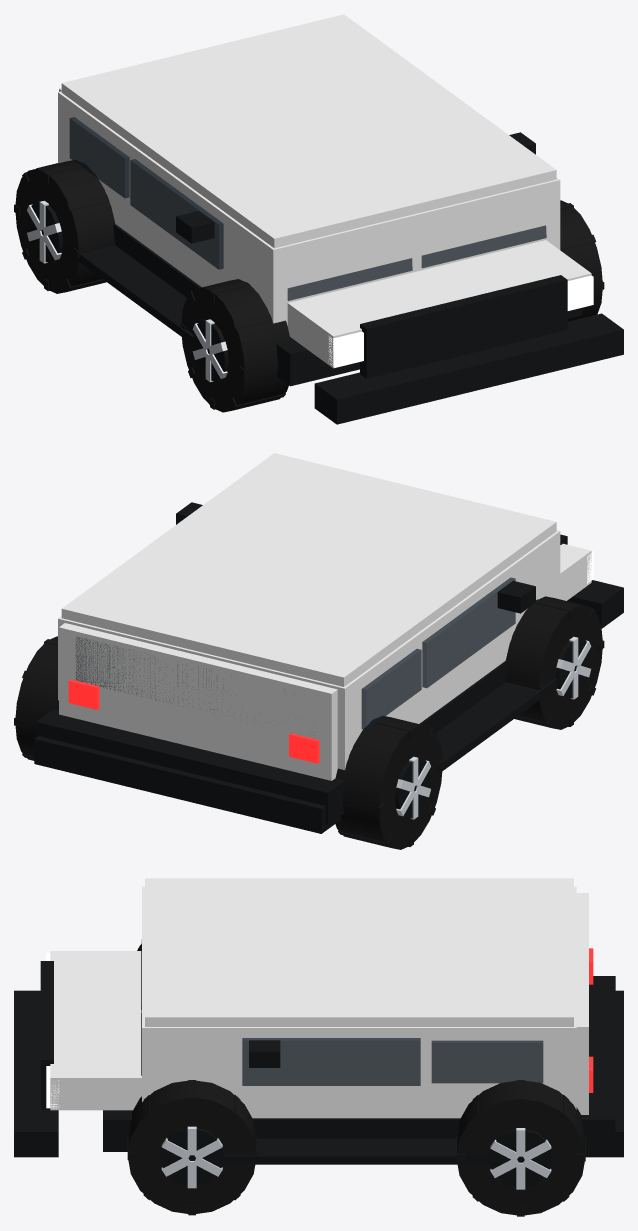
Rendered from bummer-war-hippo.glb.
The picture shows the model from 3 angles, top to bottom: view 1: azimuth 30°, elevation 25°; view 2: azimuth 150°, elevation 25°; view 3: azimuth 270°, elevation 25°; orthographic projection.
Visible parts, largest first — view 1: chassis, wheel-front-left, wheel-back-left, glass (×2), wheel-front-right; view 2: chassis, wheel-back-left, wheel-front-left, wheel-back-right; view 3: chassis, wheel-back-right, wheel-front-right.
Boxes of the visible parts, x1,y1,x2,y2 form: chassis: [36, 14, 623, 424]; wheel-front-left: [180, 279, 290, 412]; wheel-back-left: [14, 160, 115, 293]; glass (×2): [287, 225, 546, 300]; wheel-front-right: [560, 200, 604, 321]; chassis: [34, 453, 623, 833]; wheel-back-left: [335, 716, 443, 849]; wheel-front-left: [505, 596, 604, 729]; wheel-back-right: [14, 636, 58, 760]; chassis: [14, 878, 623, 1164]; wheel-back-right: [456, 1080, 585, 1216]; wheel-front-right: [127, 1080, 256, 1215].
Bounding box in the file's own units: 3.91 × 1.77 × 5.47.
